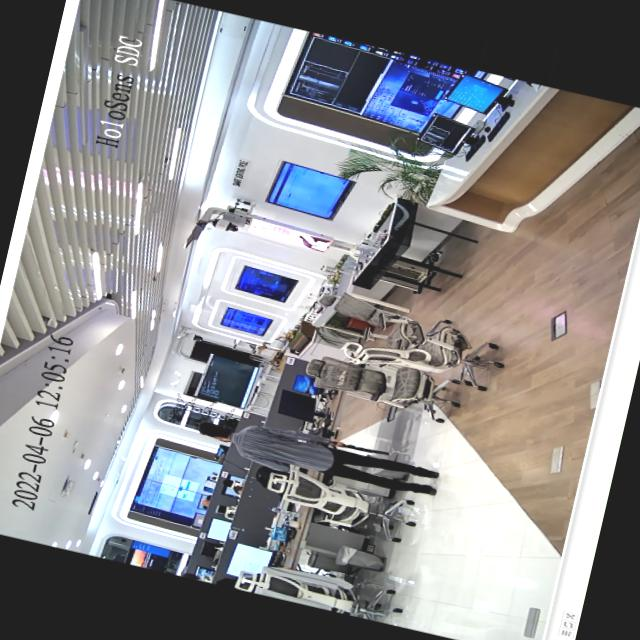long weapon: (314, 431, 398, 460)
